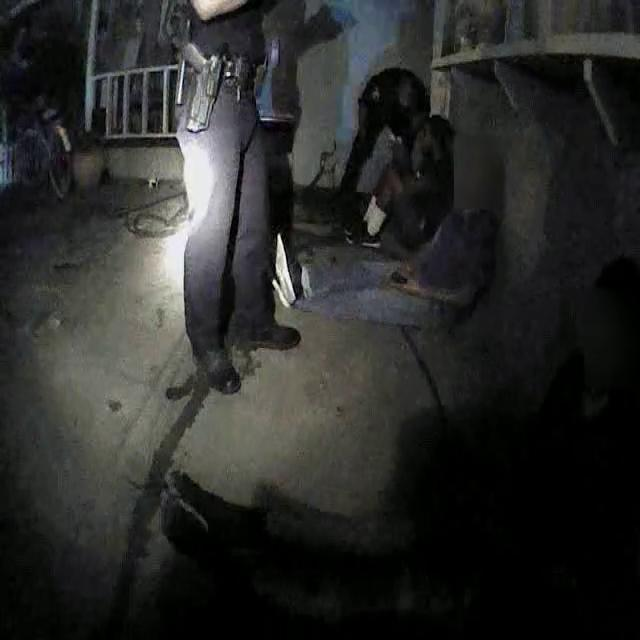gun: (170, 32, 239, 138)
